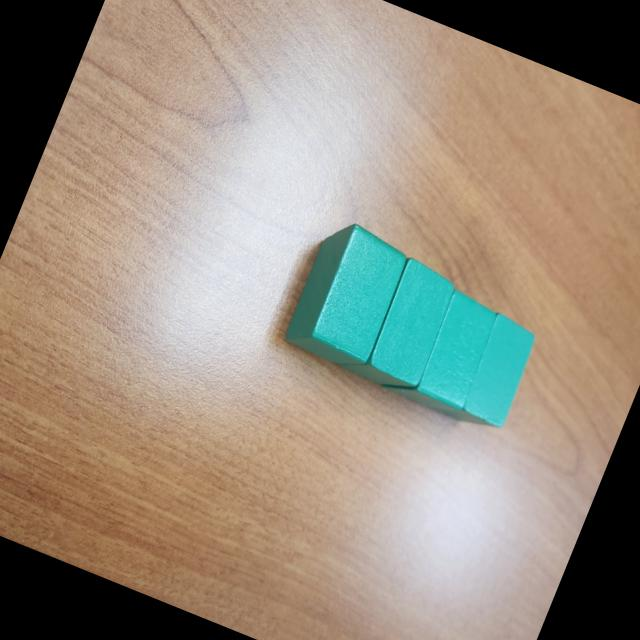green: (279, 213, 414, 376), (334, 246, 461, 400), (376, 276, 504, 426), (422, 299, 542, 438)
